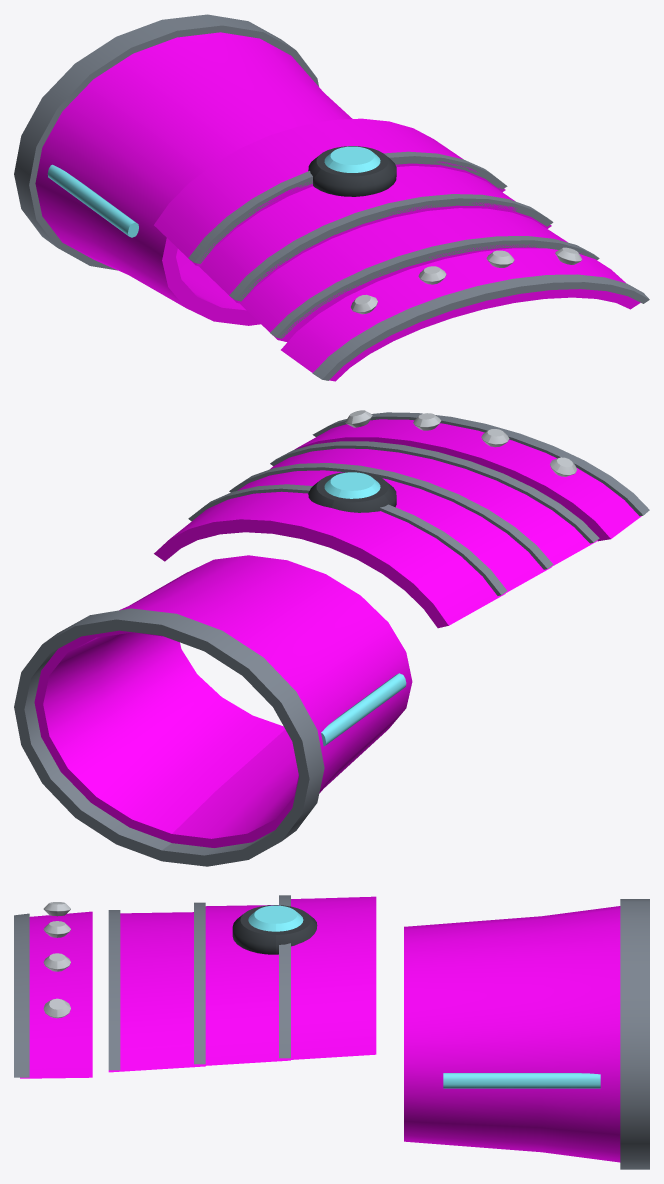
The model's file is gantelet_armure4.glb.
3 views of the same model, one above another, from view 1: azimuth 30°, elevation 25°; view 2: azimuth 150°, elevation 25°; view 3: azimuth 270°, elevation 25° (orthographic).
Parts seen in each view (by area): view 1: main__gantelet_teinte, manchette__gantelet_teinte, main__gantelet_acier_lisere, manchette__gantelet_acier_lisere, main__gantelet_teinte_sombre, manchette__gantelet_lueur, main__gantelet_rivet, main__gantelet_lueur; view 2: manchette__gantelet_teinte, main__gantelet_teinte, manchette__gantelet_acier_lisere, main__gantelet_acier_lisere, main__gantelet_teinte_sombre, manchette__gantelet_lueur, main__gantelet_rivet, main__gantelet_lueur; view 3: manchette__gantelet_teinte, main__gantelet_teinte, main__gantelet_acier_lisere, manchette__gantelet_acier_lisere, manchette__gantelet_lueur, main__gantelet_teinte_sombre, main__gantelet_rivet, main__gantelet_lueur.
Part boxes in pixels (<box>): main__gantelet_teinte: <box>154,118,640,381</box>; manchette__gantelet_teinte: <box>35,32,352,325</box>; main__gantelet_acier_lisere: <box>188,151,649,380</box>; manchette__gantelet_acier_lisere: <box>14,14,318,270</box>; main__gantelet_teinte_sombre: <box>308,146,396,196</box>; manchette__gantelet_lueur: <box>47,164,138,237</box>; main__gantelet_rivet: <box>350,247,582,314</box>; main__gantelet_lueur: <box>324,146,380,172</box>; manchette__gantelet_teinte: <box>34,555,412,847</box>; main__gantelet_teinte: <box>154,419,641,628</box>; manchette__gantelet_acier_lisere: <box>14,608,324,866</box>; main__gantelet_acier_lisere: <box>188,412,649,595</box>; main__gantelet_teinte_sombre: <box>308,471,396,512</box>; manchette__gantelet_lueur: <box>321,673,406,746</box>; main__gantelet_rivet: <box>345,410,576,476</box>; main__gantelet_lueur: <box>324,472,380,498</box>; manchette__gantelet_teinte: <box>404,906,620,1162</box>; main__gantelet_teinte: <box>20,896,376,1078</box>; main__gantelet_acier_lisere: <box>14,895,290,1077</box>; manchette__gantelet_acier_lisere: <box>620,899,649,1169</box>; manchette__gantelet_lueur: <box>443,1073,600,1088</box>; main__gantelet_teinte_sombre: <box>232,905,317,954</box>; main__gantelet_rivet: <box>43,902,70,1018</box>; main__gantelet_lueur: <box>248,905,303,931</box>.
Size of the model in its own units: 0.0952 by 0.066 by 0.1615.
